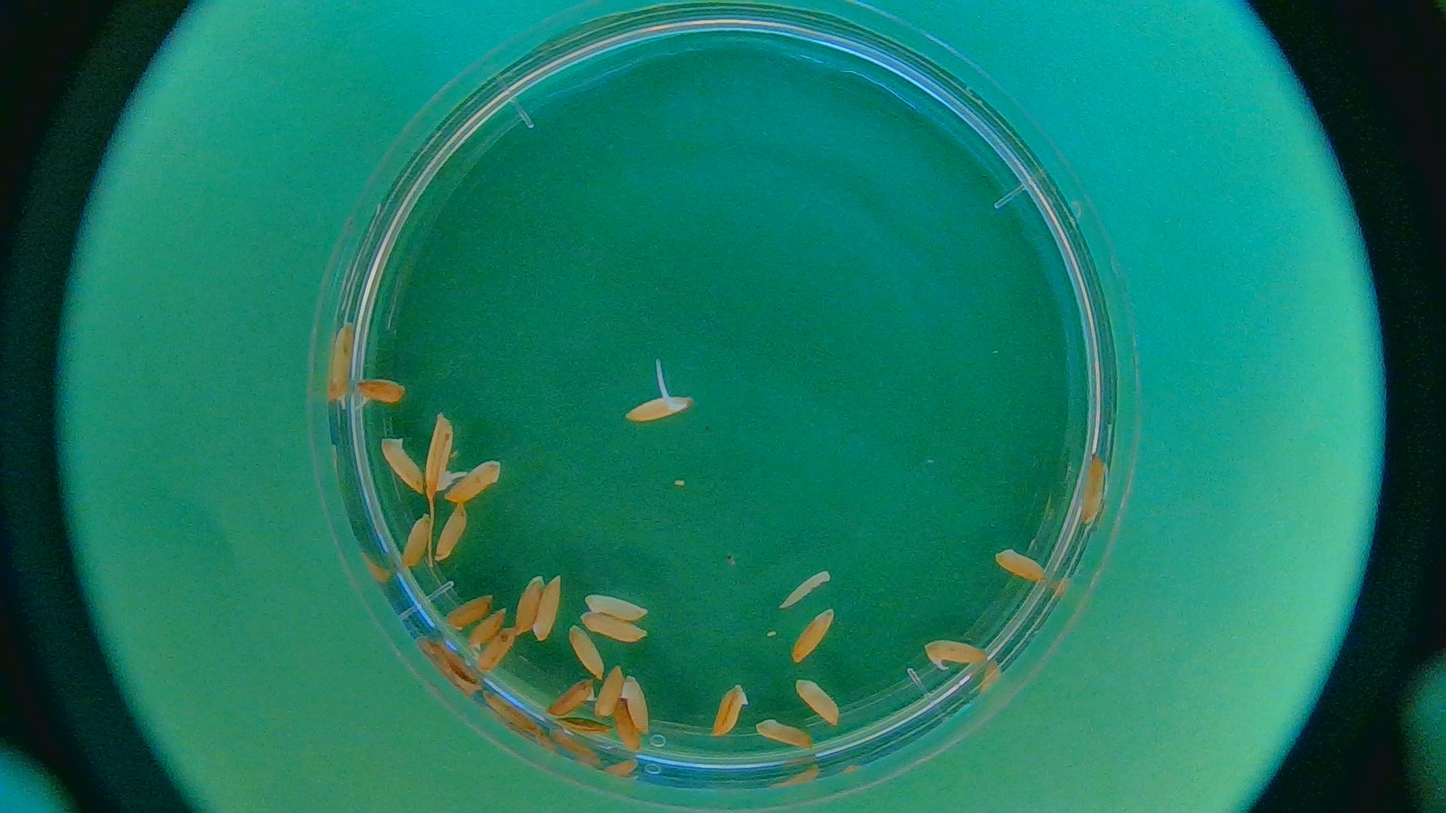no: (1074, 447, 1118, 523), (375, 434, 425, 494), (788, 674, 844, 727), (442, 458, 500, 506), (618, 677, 659, 738), (990, 547, 1051, 587), (791, 608, 835, 663), (564, 625, 606, 682), (529, 574, 563, 644), (579, 611, 649, 643), (327, 318, 351, 408), (511, 576, 547, 636), (706, 683, 747, 735), (395, 513, 431, 571), (465, 607, 511, 652), (447, 592, 496, 634), (435, 500, 467, 562), (755, 717, 813, 751), (546, 678, 600, 714), (584, 591, 651, 619), (592, 662, 624, 718), (593, 662, 624, 717), (611, 698, 639, 752), (549, 714, 612, 737)
yes: (423, 416, 460, 496), (920, 634, 988, 674), (622, 391, 694, 424), (354, 370, 407, 413)
